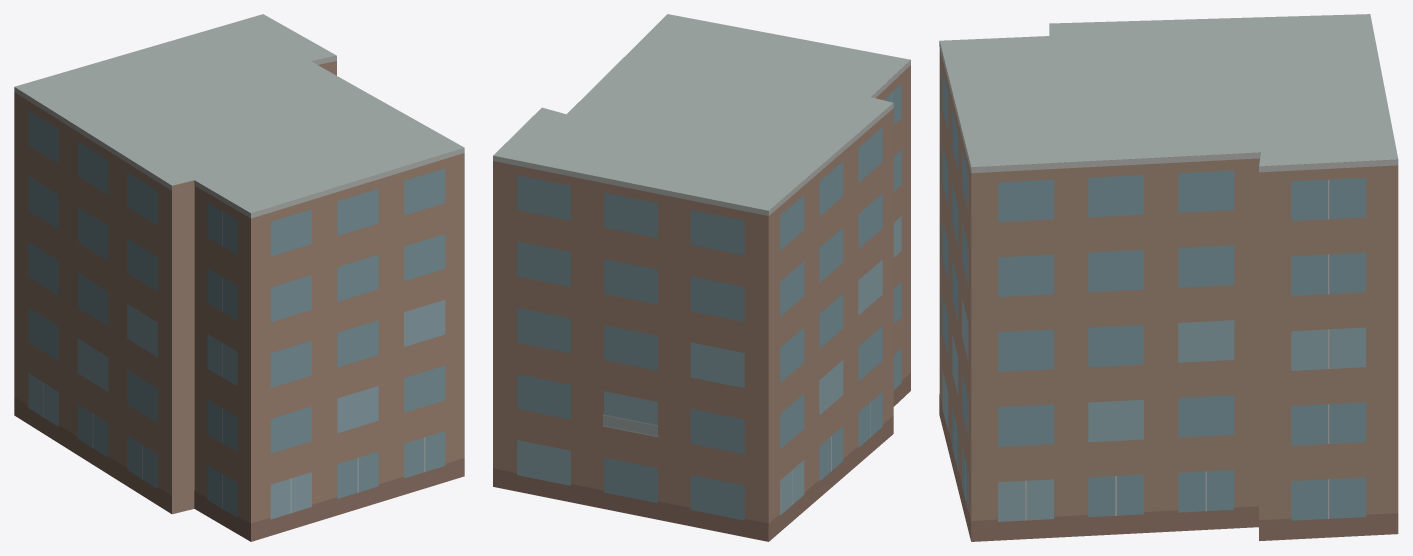
The model's file is survey-upis-32494086.glb.
3 views of the same model, side by side, from view 1: azimuth 30°, elevation 25°; view 2: azimuth 150°, elevation 25°; view 3: azimuth 270°, elevation 25° (orthographic). The views are drawn at different scales.
Visible parts, largest first — view 1: survey-upis-32494086.tmp; view 2: survey-upis-32494086.tmp; view 3: survey-upis-32494086.tmp.
Boxes of the visible parts, x1,y1,x2,y2 form: survey-upis-32494086.tmp: (14,14,464,541); survey-upis-32494086.tmp: (493,14,910,541); survey-upis-32494086.tmp: (939,14,1398,541).
Bounding box in the file's own units: 13.39 × 15.25 × 16.93.
